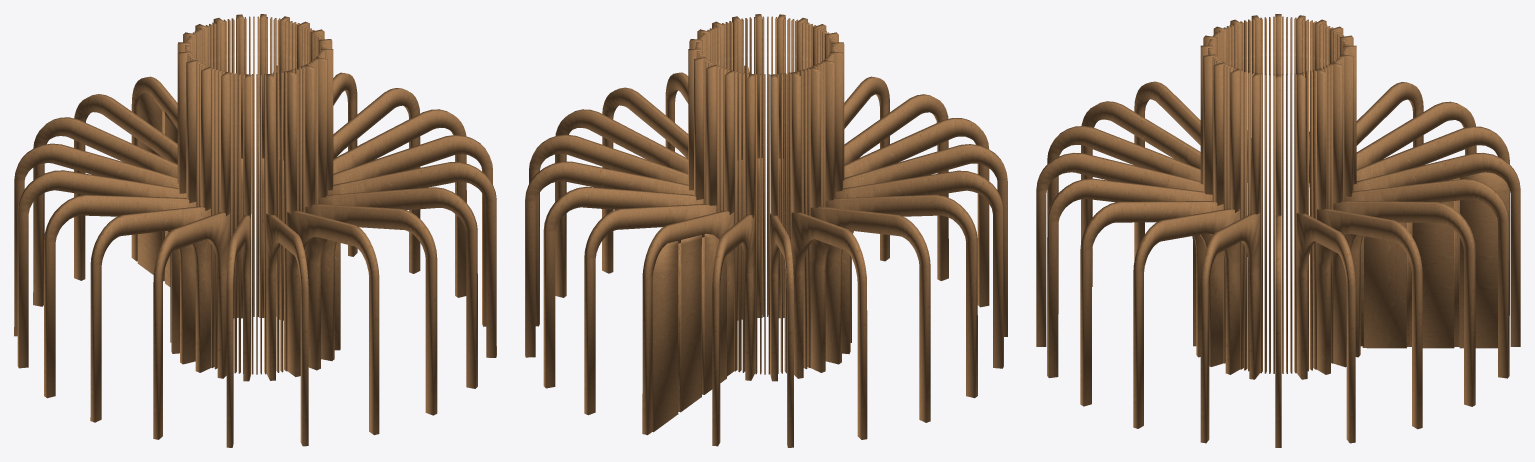
Rendered from mesh_tut_beams.glb.
3 renders of one model, left to right at view 1: azimuth 30°, elevation 25°; view 2: azimuth 150°, elevation 25°; view 3: azimuth 270°, elevation 25°, orthographic.
Parts seen in each view (by area): view 1: mesh_tut_beams; view 2: mesh_tut_beams; view 3: mesh_tut_beams.
Part boxes in pixels (left/top/right/bottom): mesh_tut_beams: left=14, top=14, right=496, bottom=447; mesh_tut_beams: left=525, top=14, right=1007, bottom=447; mesh_tut_beams: left=1036, top=14, right=1520, bottom=447.
Size of the model in its own units: 17.93 by 12.28 by 17.93.
1 material, 1 textured.
